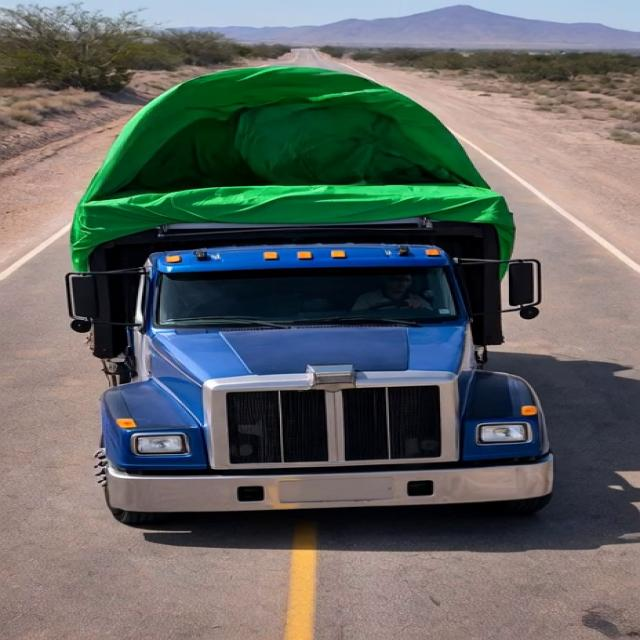trailer: (56, 66, 524, 234)
truck: (46, 57, 569, 550)
